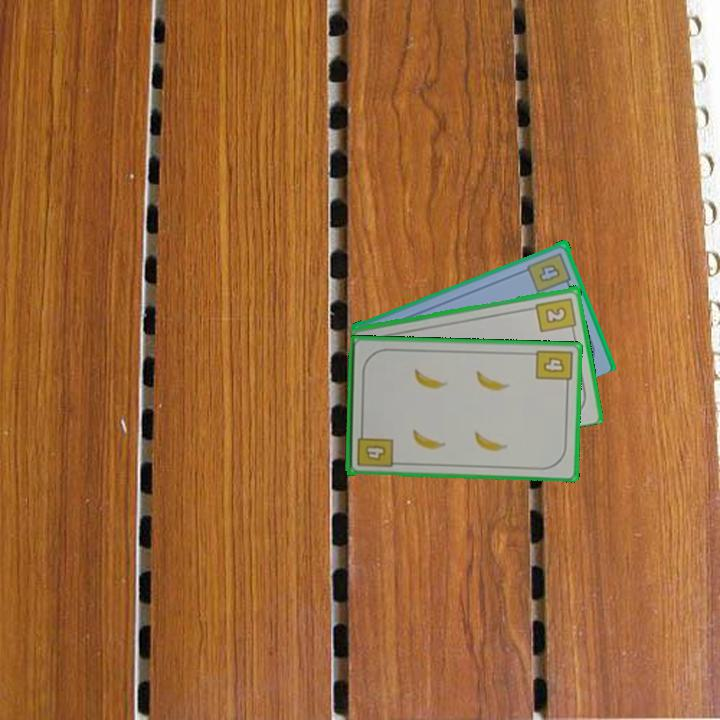2b: (533, 294, 579, 336)
4b: (524, 248, 574, 295), (532, 346, 575, 390), (353, 426, 395, 470)
